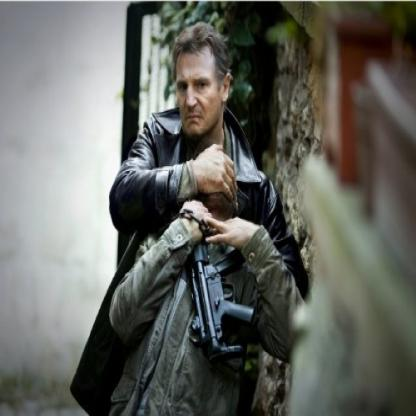Gun: (182, 214, 259, 364)
